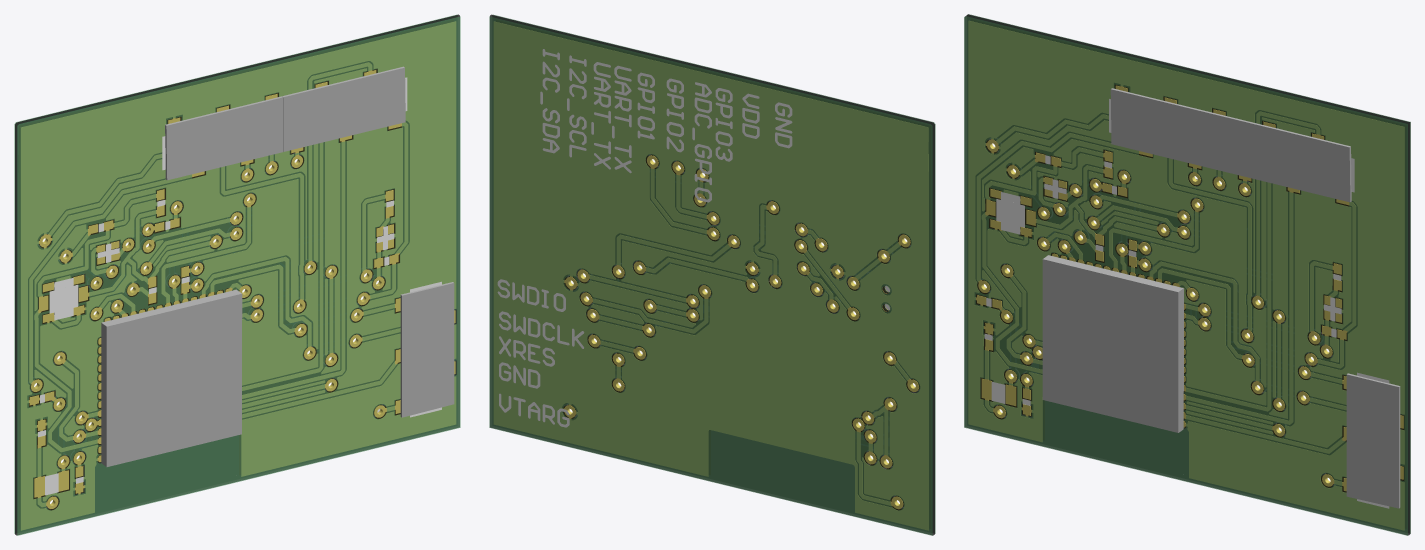
The model's file is PSOC6.glb.
The picture shows the model from 3 angles, left to right: view 1: azimuth 30°, elevation 25°; view 2: azimuth 150°, elevation 25°; view 3: azimuth 330°, elevation 25°; orthographic projection.
Parts seen in each view (by area): view 1: Solder_Top, GND, Core, ComponentBody, ComponentBody.1, ComponentBody.2, Top, VTARG, Solder_Bottom, VDD, P0_4, VBACKUP (+14 smaller); view 2: Solder_Bottom, VTARG, Core, Bottom, Solder_Top, P0_4, GND, GPIO2, GPIO1, I2C_SDA, I2C_SCL, P6_3 (+4 smaller); view 3: Solder_Top, GND, Core, ComponentBody, ComponentBody.1, ComponentBody.2, VTARG, Top, Solder_Bottom, P0_4, VDD, VBACKUP (+13 smaller).
Boxes of the visible parts, x1,y1,x2,y2 form: Solder_Top: (17,16,460,535); GND: (21,21,455,530); Core: (15,14,459,535); ComponentBody: (101,289,242,466); ComponentBody.1: (165,66,405,180); ComponentBody.2: (400,282,454,417); Top: (38,77,441,495); VTARG: (29,69,401,509); Solder_Bottom: (14,14,457,533); VDD: (29,174,195,473); P0_4: (83,209,337,408); VBACKUP: (34,193,162,451); Solder_Bottom: (489,16,932,535); VTARG: (494,21,928,530); Core: (490,14,934,535); Bottom: (497,49,792,427); Solder_Top: (492,14,935,533); P0_4: (612,235,856,391); GND: (563,156,910,509); GPIO2: (672,161,859,320); GPIO1: (647,155,838,312); I2C_SDA: (580,285,711,333); I2C_SCL: (633,258,758,291); P6_3: (577,269,699,307); Solder_Top: (964,16,1407,535); GND: (968,21,1404,530); Core: (965,14,1410,535); ComponentBody: (1042,255,1183,432); ComponentBody.1: (1110,88,1351,202); ComponentBody.2: (1346,373,1400,508); VTARG: (976,85,1404,491); Top: (984,99,1389,508); Solder_Bottom: (967,14,1410,533); P0_4: (1032,165,1285,436); VDD: (977,133,1144,393); VBACKUP: (982,147,1110,373).
Bounding box in the file's own units: 4.63 × 4.11 × 0.1538.
